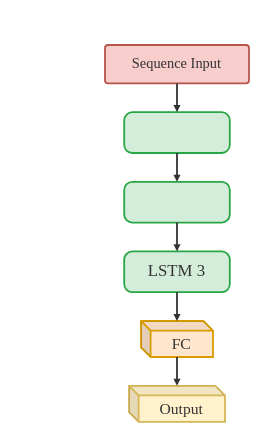
The diagram is 275 pixels wide and 448 high, and some of its shapes have lost their labels. The centre of each missing label's shape, as x and y in pixels:
"LSTM 1" belongs at (176,132).
"LSTM 2" belongs at (176,201).
